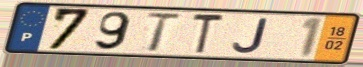1: (298, 16, 325, 60)
7: (47, 6, 93, 51)
9: (92, 10, 133, 52)
J: (230, 17, 270, 55)
T: (143, 12, 184, 53), (190, 12, 227, 56)
